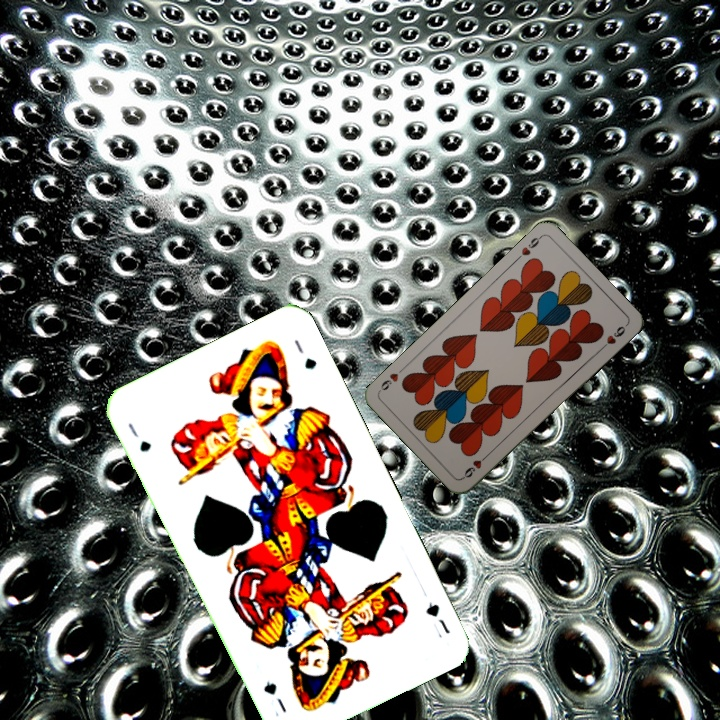GU: (421, 598, 453, 641), (123, 419, 154, 455)
H9: (459, 449, 491, 481), (517, 232, 544, 258)
